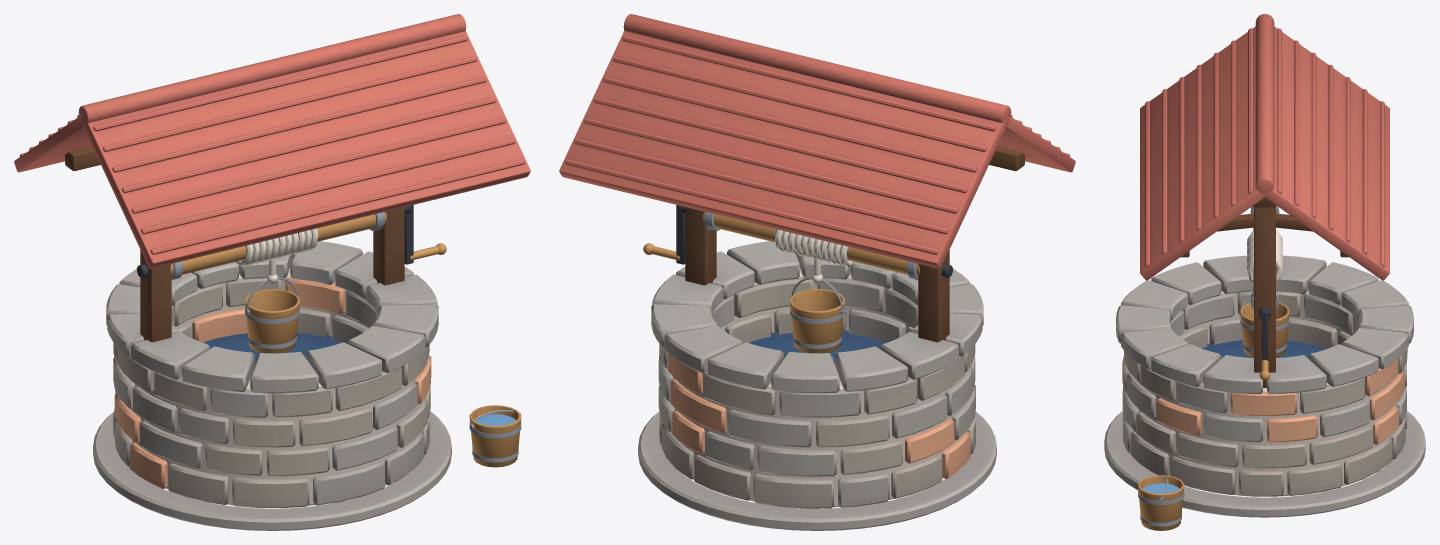
Rendered from village.glb.
3 views of the same model, side by side, from view 1: azimuth 30°, elevation 25°; view 2: azimuth 150°, elevation 25°; view 3: azimuth 270°, elevation 25° (orthographic). The views are drawn at different scales.
Visible parts, largest first — view 1: village-well_body, village-well_winch; view 2: village-well_body, village-well_winch; view 3: village-well_body, village-well_winch.
Part boxes in pixels (x1=…): village-well_body: x1=14, y1=14, x2=530, y2=530; village-well_winch: x1=137, y1=205, x2=446, y2=279; village-well_body: x1=559, y1=14, x2=1075, y2=530; village-well_winch: x1=643, y1=205, x2=952, y2=279; village-well_body: x1=1104, y1=14, x2=1425, y2=530; village-well_winch: x1=1247, y1=206, x2=1282, y2=380.
Size of the model in its own units: 2.34 by 2.34 by 1.92.
Materials: 5 (1 with a texture image).
